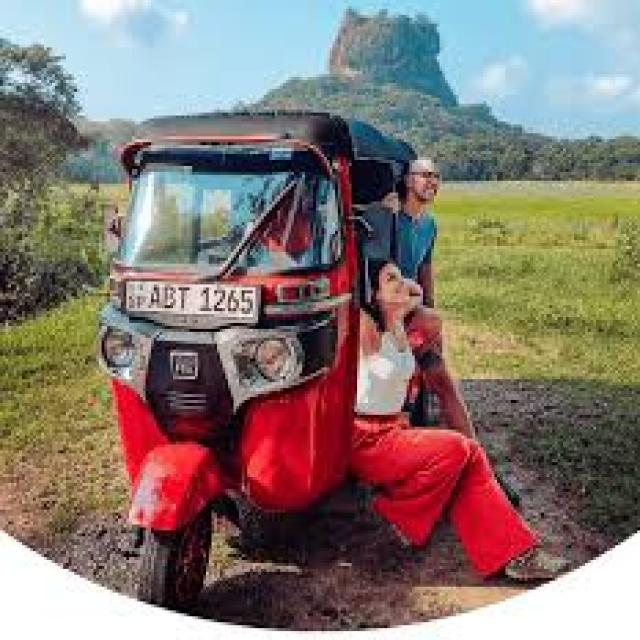tuktuk: (81, 68, 486, 624)
